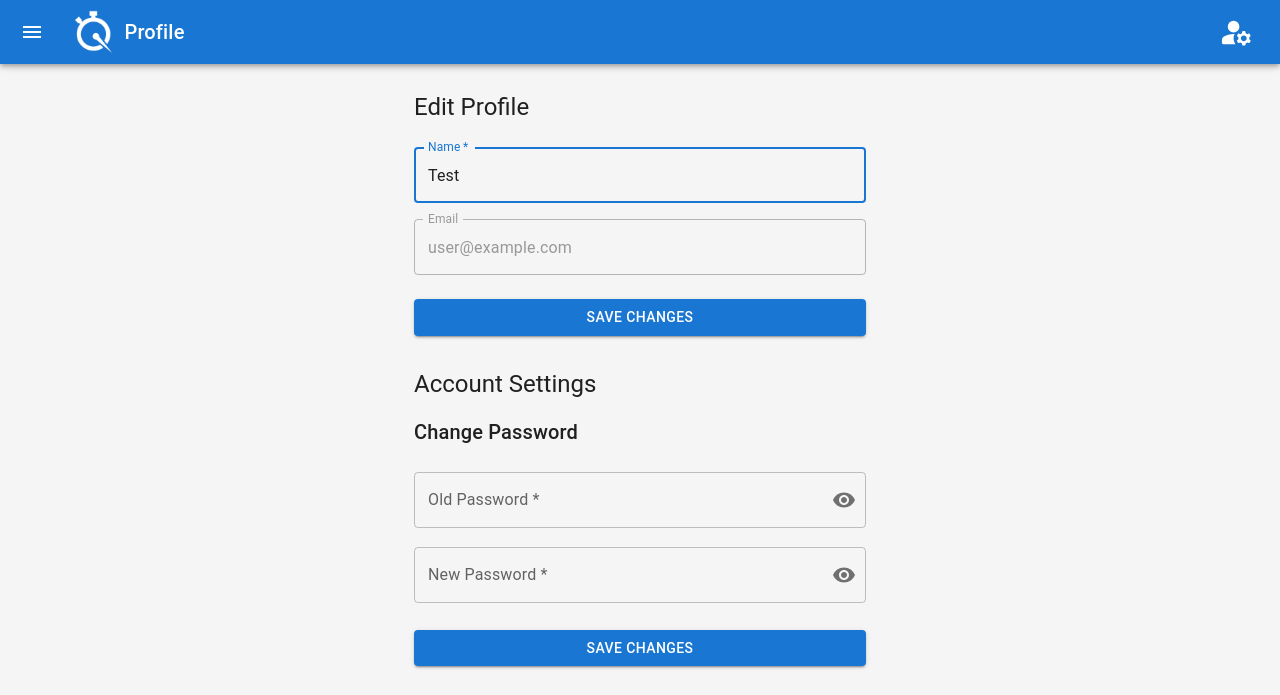
it: Profile › handles form error
Step 1. Clear the field labelled "Name *" → point(640, 175), box [414,147,866,203]
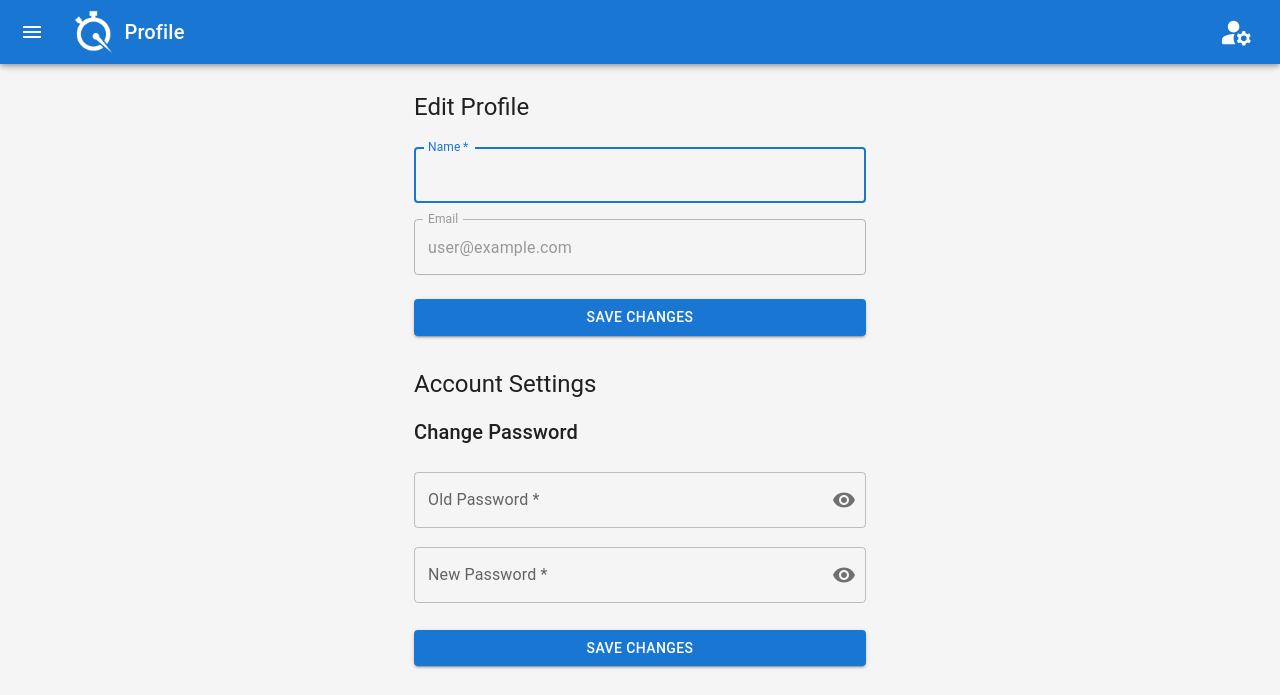
Step 2. Click the button "Save changes" below "Email" → point(640, 317), box [414,299,866,336]
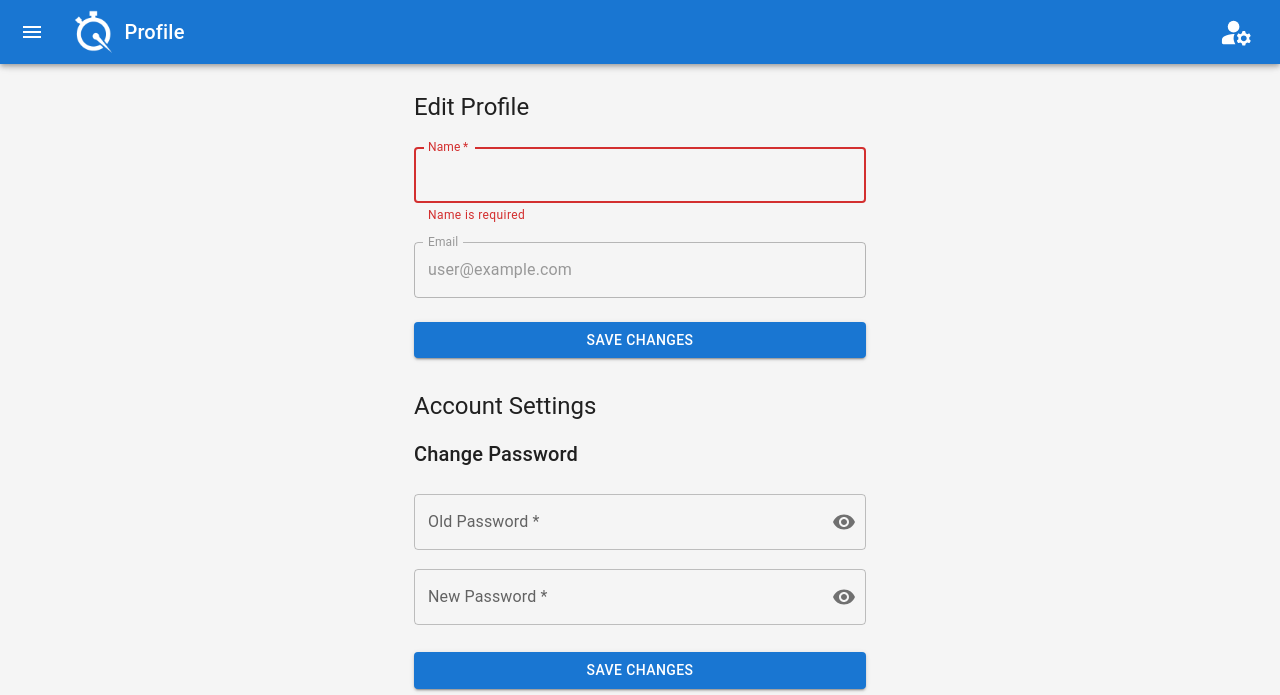
Result: the text "Name is required" is shown at [428,208,525,222]
